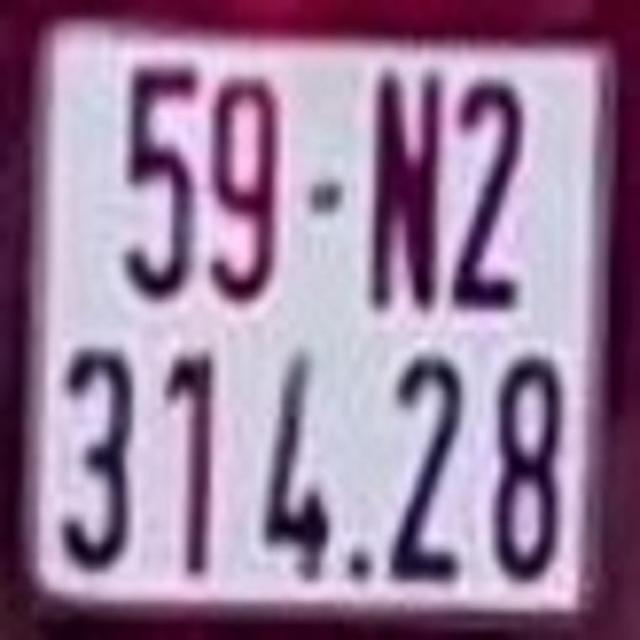1: (166, 337, 214, 570)
2: (456, 76, 517, 310), (400, 348, 460, 580)
3: (66, 342, 129, 568)
4: (267, 343, 328, 580)
5: (124, 62, 198, 300)
8: (501, 354, 558, 592)
9: (211, 77, 279, 300)
N: (375, 70, 438, 308)
